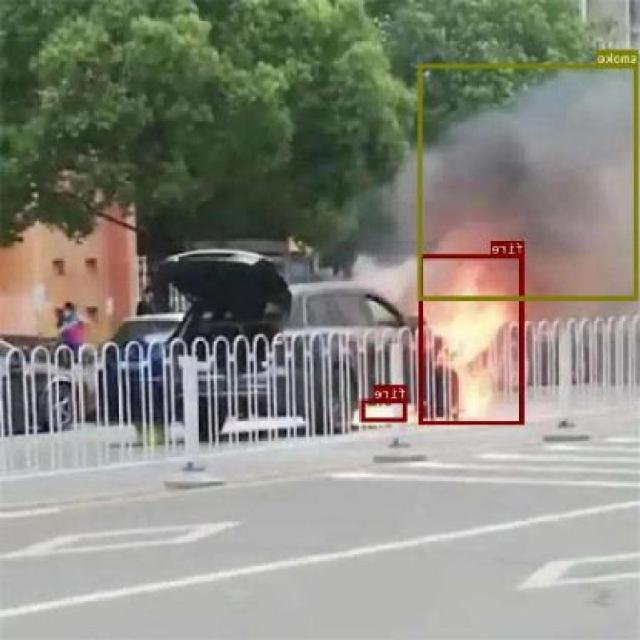Fire: (420, 253, 525, 424), (362, 398, 408, 422)
Smoke: (418, 63, 638, 300)
